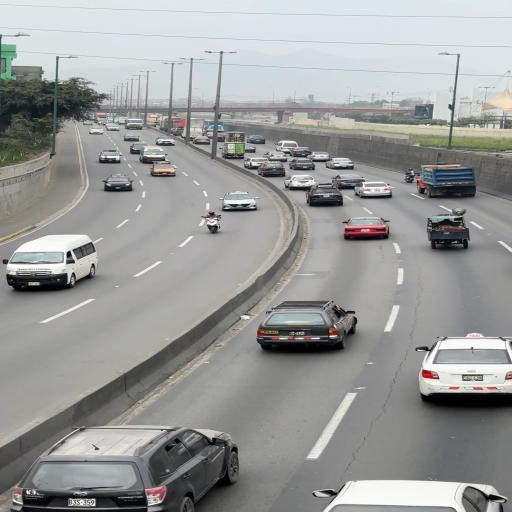auto: (12, 425, 236, 510), (314, 478, 508, 510), (416, 334, 510, 400), (257, 300, 356, 350), (341, 216, 391, 240), (305, 186, 344, 206), (220, 191, 258, 210), (353, 181, 394, 198), (102, 174, 134, 192), (256, 162, 288, 177), (284, 175, 316, 190), (331, 174, 365, 188), (139, 148, 167, 164), (149, 162, 178, 176), (288, 158, 316, 170), (98, 150, 121, 164), (325, 158, 354, 169), (244, 156, 267, 168), (265, 151, 289, 162), (205, 129, 229, 139), (308, 152, 331, 162), (154, 136, 175, 146), (290, 147, 313, 156), (129, 143, 146, 154), (276, 140, 298, 148), (276, 146, 294, 154), (89, 127, 103, 134), (124, 133, 138, 140), (106, 124, 120, 130)
bus: (4, 235, 98, 287), (181, 126, 205, 140), (204, 120, 224, 132), (125, 118, 144, 129), (170, 117, 186, 129), (146, 114, 161, 126), (95, 112, 108, 123), (114, 117, 127, 124)
camion: (415, 163, 477, 198), (219, 131, 245, 157)
moto: (202, 209, 223, 228), (404, 170, 416, 183)
